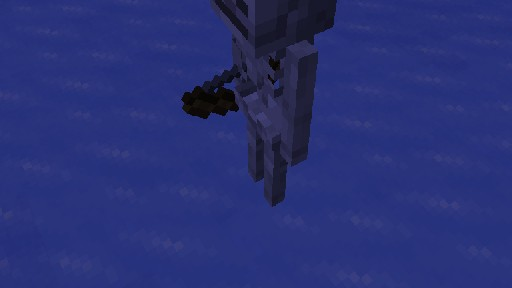skeleton: (180, 0, 348, 206)
